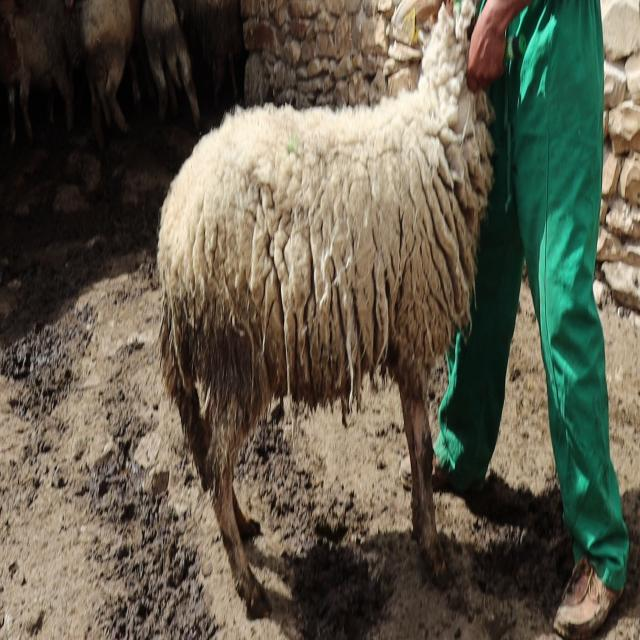Score_2: (157, 0, 493, 617)
